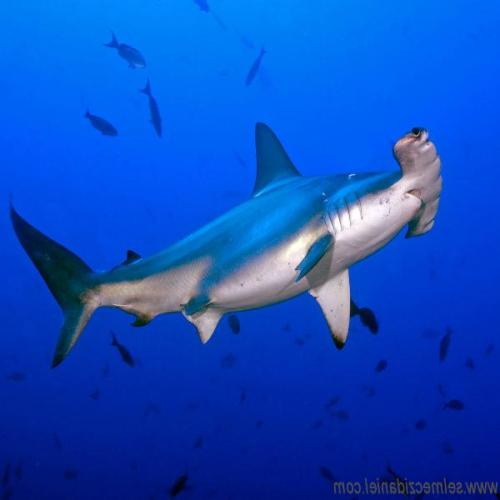shark-endangered: (10, 119, 446, 371)
